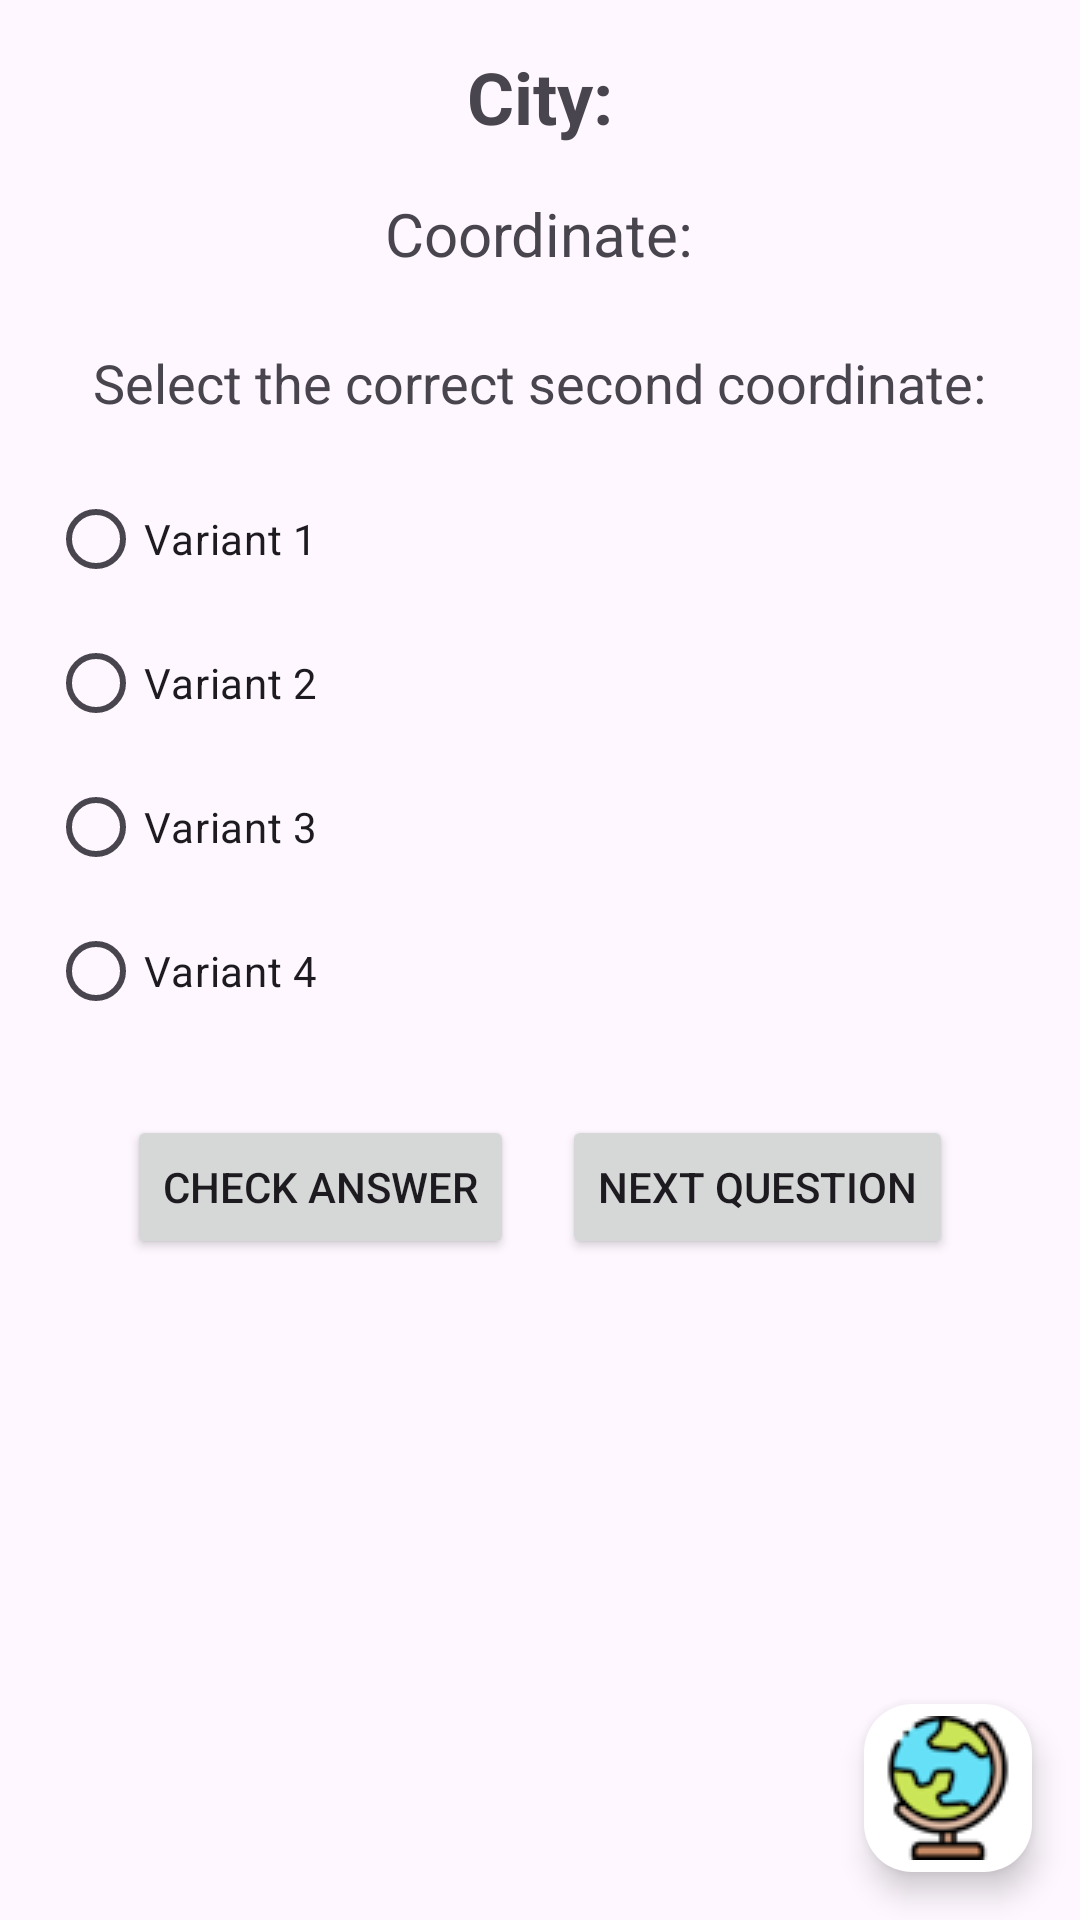

Screen size 1080px x 1920px. Icon name, then its box in pixels as (x1, y1, x2, y2):
globus: (887, 1716, 1009, 1860)
